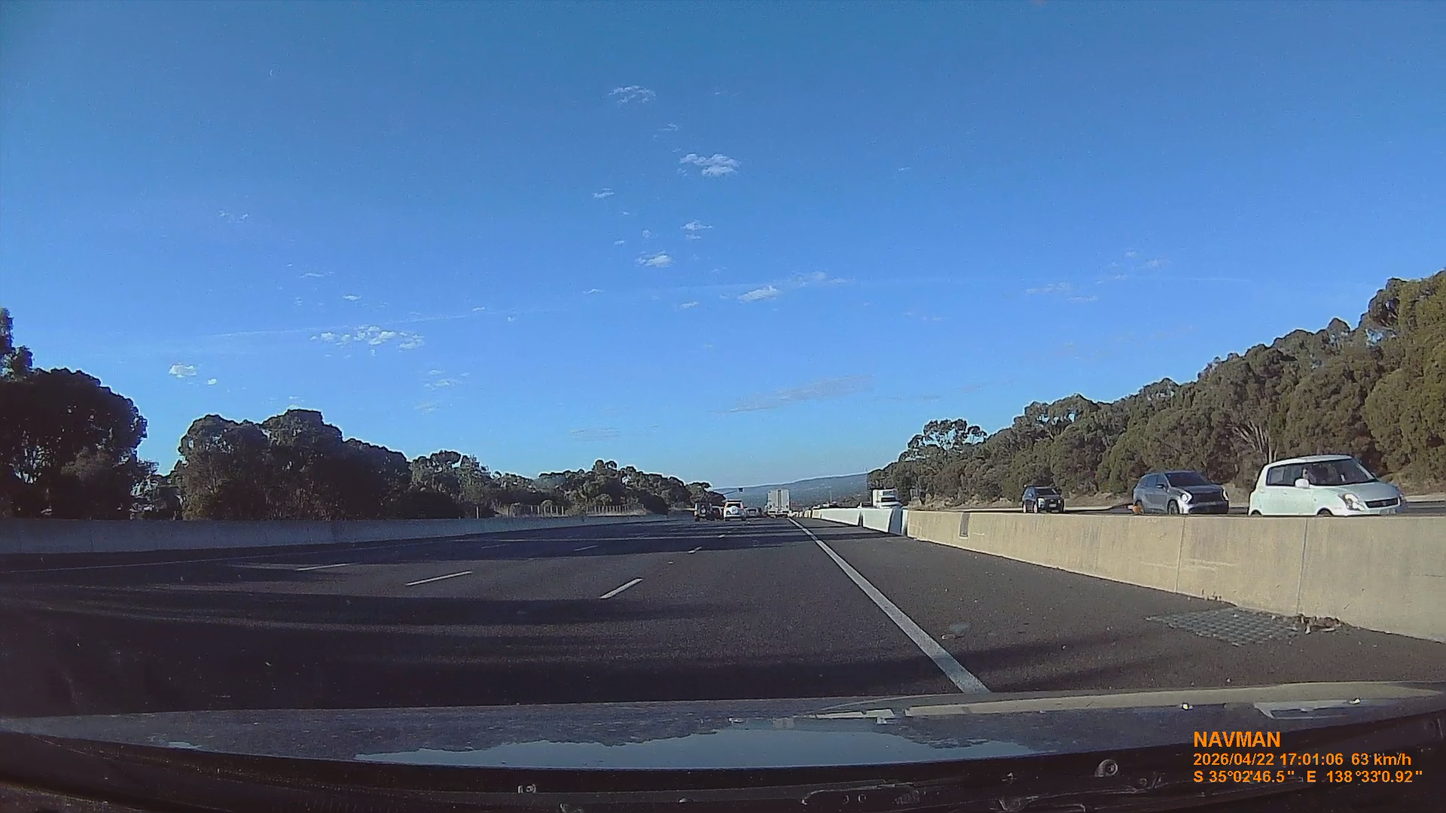fences: (498, 501, 587, 517), (590, 505, 635, 516), (580, 510, 649, 517)
road barriers: (905, 510, 1445, 644), (0, 516, 665, 556), (350, 513, 665, 541), (802, 507, 909, 536)
